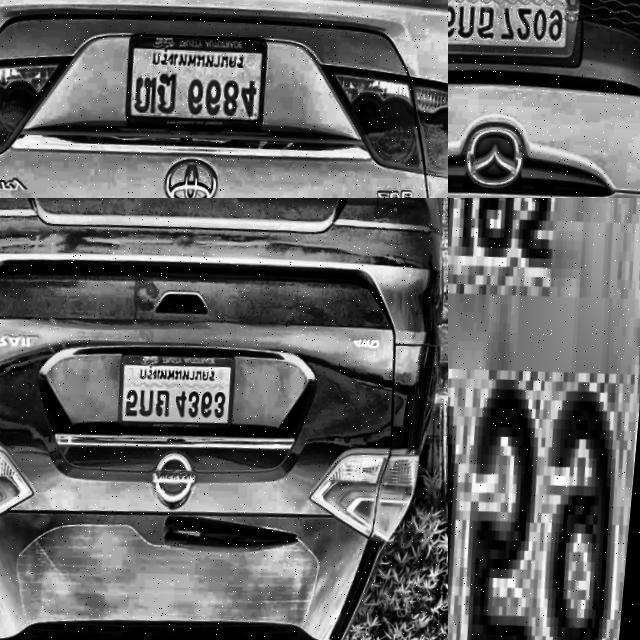license-plate: (448, 198, 640, 640), (126, 28, 275, 128), (119, 342, 243, 431), (448, 0, 590, 63)
